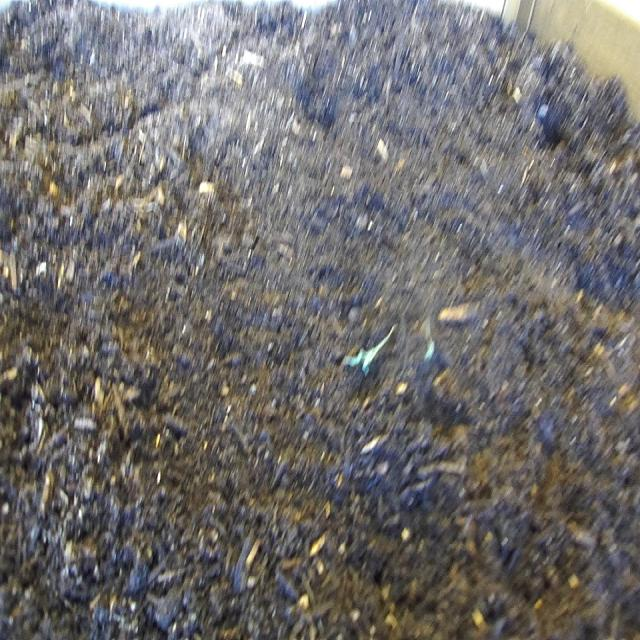Unhealthy: (339, 321, 400, 378)
